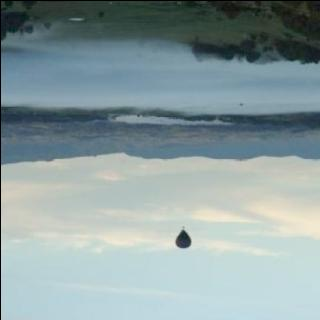Altostratus: (0, 150, 320, 302)
